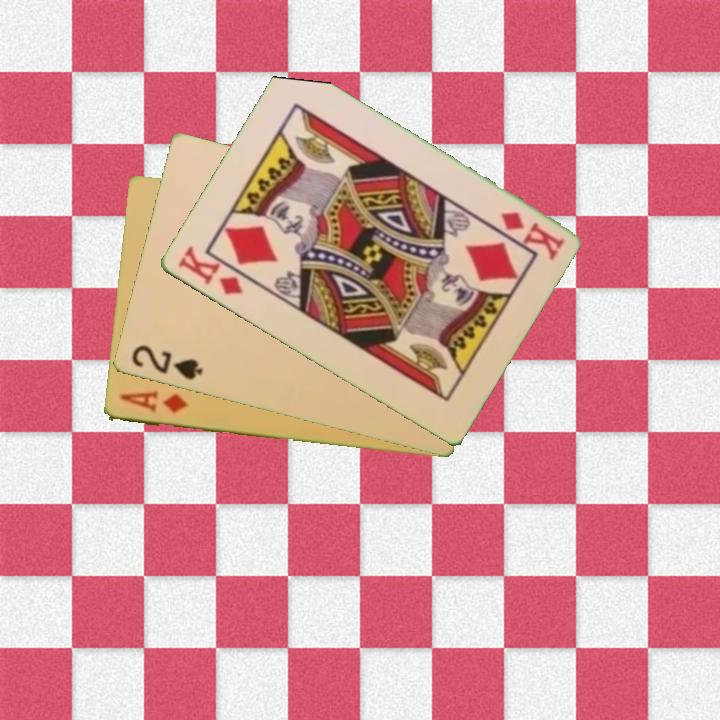2s: (127, 341, 205, 383)
Ad: (116, 388, 190, 416)
Kd: (173, 243, 246, 298), (496, 208, 567, 262)
